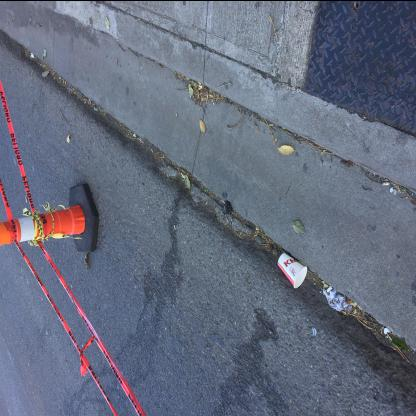karton: (278, 252, 308, 288)
